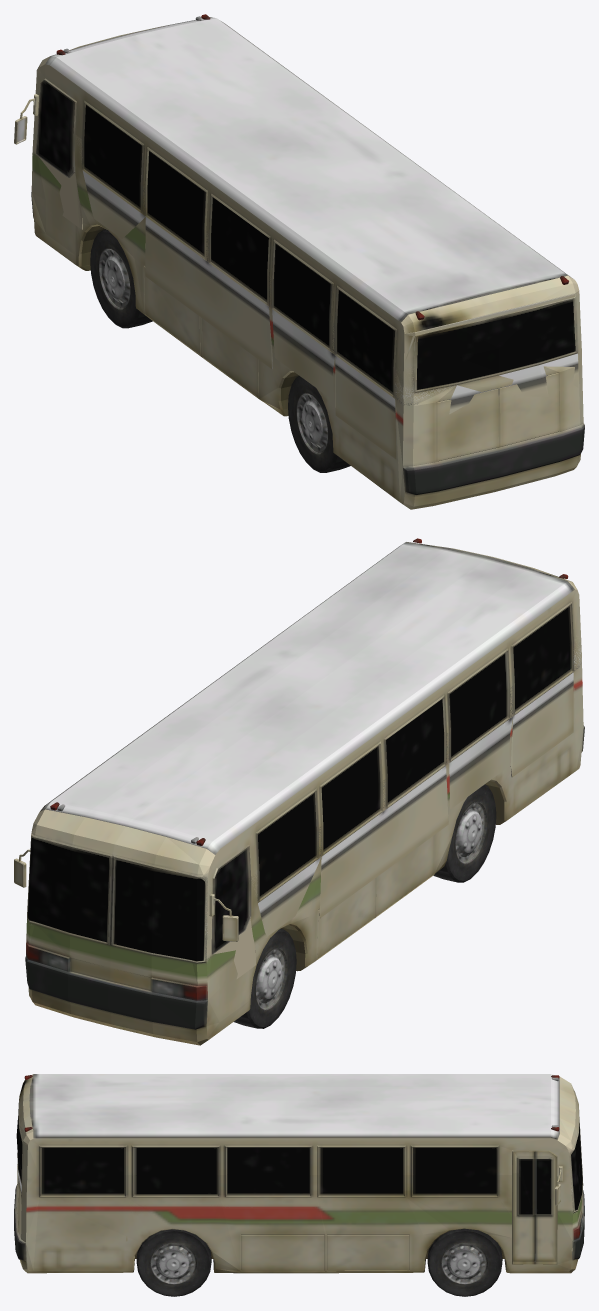
The model's file is coach_bus.DAE.
The picture shows the model from 3 angles, top to bottom: view 1: azimuth 30°, elevation 25°; view 2: azimuth 150°, elevation 25°; view 3: azimuth 270°, elevation 25°; orthographic projection. The views are drawn at different scales.
Visible parts, largest first — view 1: hull, a_front, wheels_spin_steer002, wheels_spin001; view 2: hull, a_front, wheels_spin_steer002, wheels_spin001; view 3: hull, a_front, wheels_spin_steer001, wheels_spin002.
Boxes of the visible parts, box(x1,y1,x2,y2) form: hull: box(14, 14, 584, 509); a_front: box(36, 80, 575, 394); wheels_spin_steer002: box(90, 229, 152, 328); wheels_spin001: box(288, 375, 350, 472); hull: box(14, 538, 584, 1045); a_front: box(30, 605, 571, 959); wheels_spin_steer002: box(234, 928, 296, 1028); wheels_spin001: box(433, 784, 496, 882); hull: box(14, 1074, 584, 1273); a_front: box(16, 1116, 582, 1214); wheels_spin_steer001: box(427, 1228, 502, 1296); wheels_spin002: box(136, 1229, 211, 1296).
Bounding box in the file's own units: 3.32 × 3.19 × 9.83.
2 materials, 2 textured.
